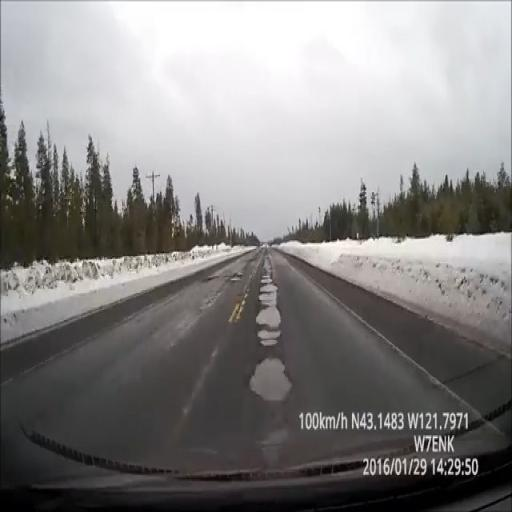Potholes: (280, 233, 511, 348), (244, 351, 299, 415), (256, 252, 280, 343), (256, 279, 280, 341), (254, 303, 282, 344)
